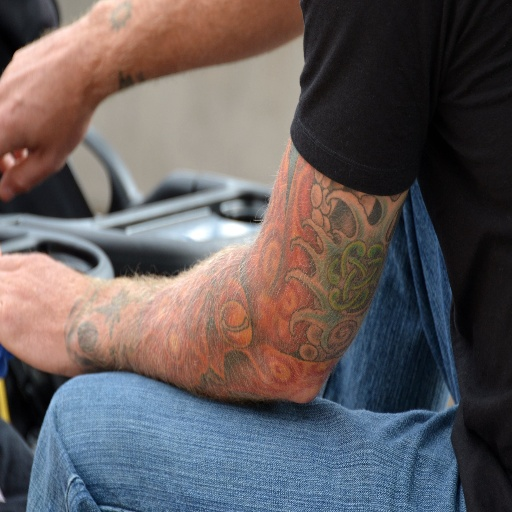hand: (0, 18, 75, 205), (0, 252, 90, 375)
